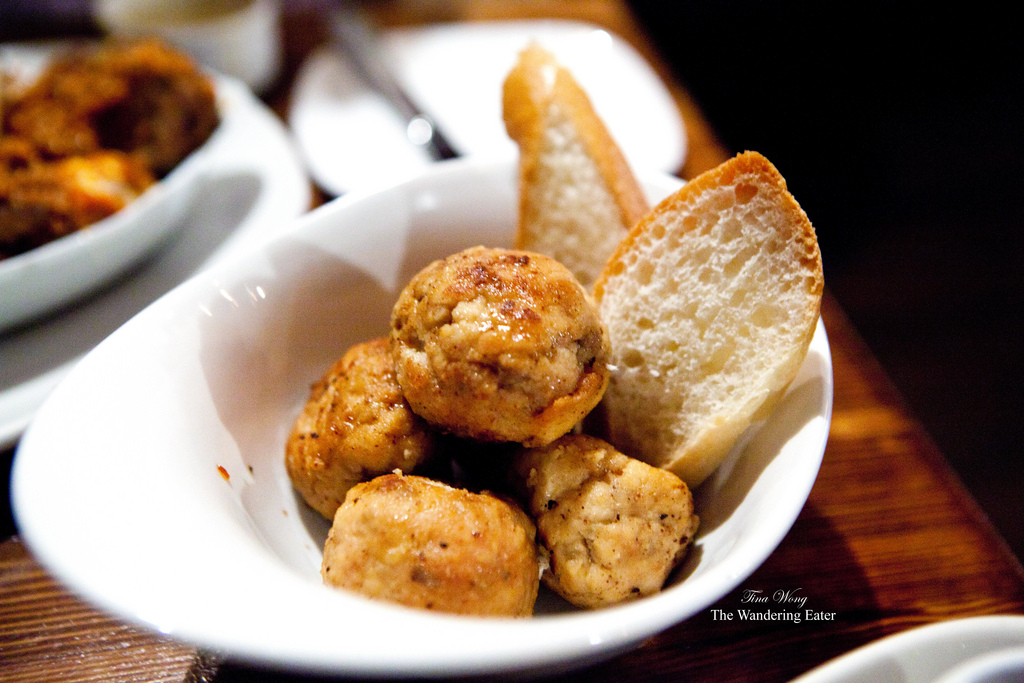meatballs: (349, 471, 565, 626), (405, 253, 598, 425), (536, 439, 691, 597), (312, 350, 421, 493)
slice of bread: (585, 143, 847, 468)
